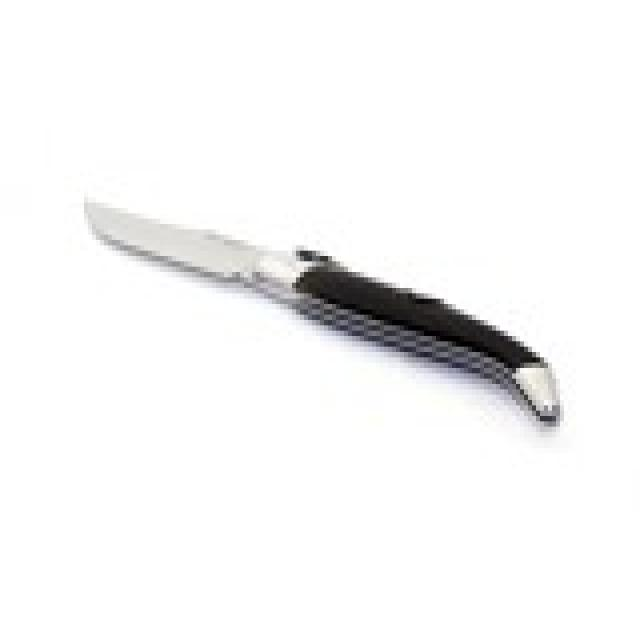Knife: (67, 143, 577, 448)
